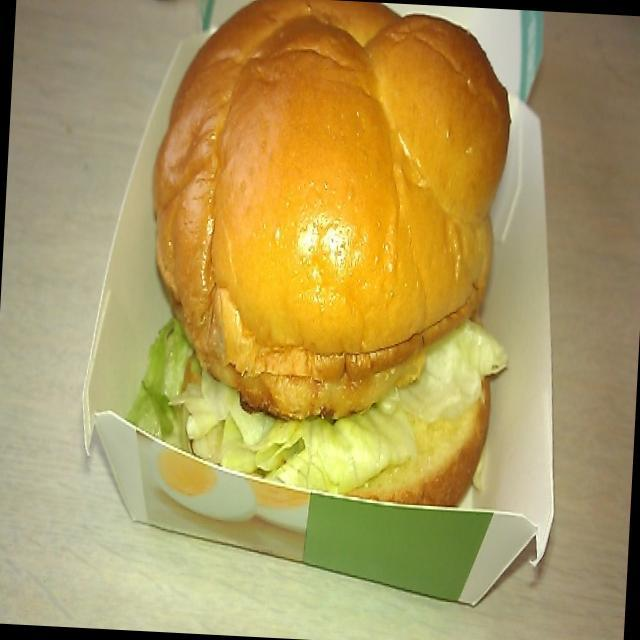Hamburger: (198, 0, 565, 363)
